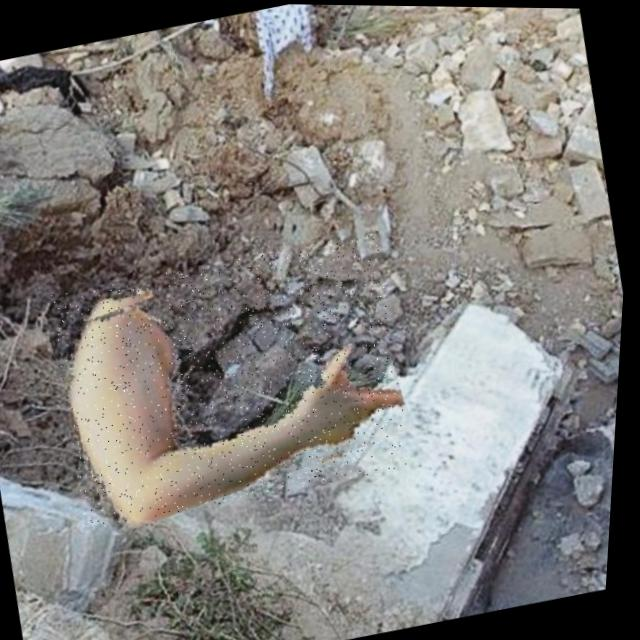Person in Rubble: (42, 226, 428, 533)
